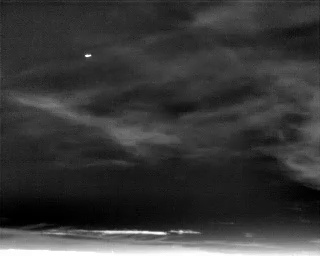AIRPLANE: (83, 51, 93, 60)
